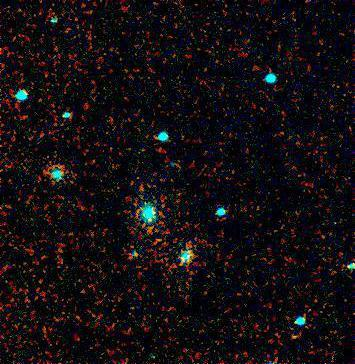star: (280, 321, 310, 351)
